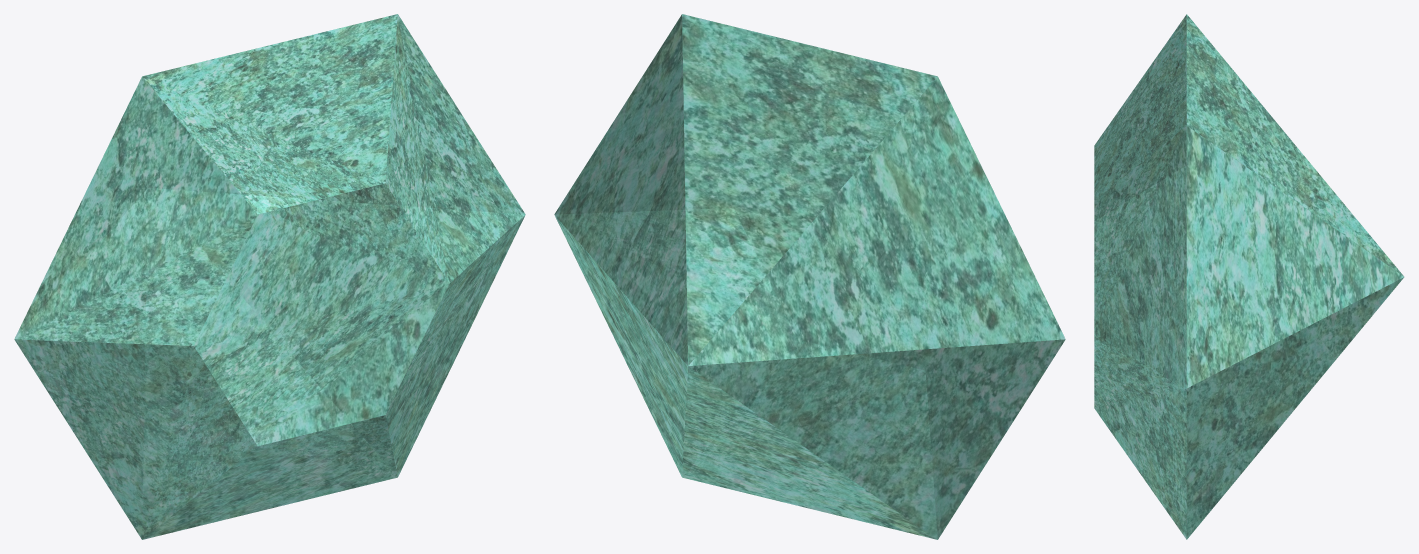
The model's file is HexagonalPrism.obj.
3 views of the same model, side by side, from view 1: azimuth 30°, elevation 25°; view 2: azimuth 150°, elevation 25°; view 3: azimuth 270°, elevation 25° (orthographic). The views are drawn at different scales.
Bounding box in the file's own units: 2 × 1.73 × 1.17.
Materials: 1 (1 with a texture image).
